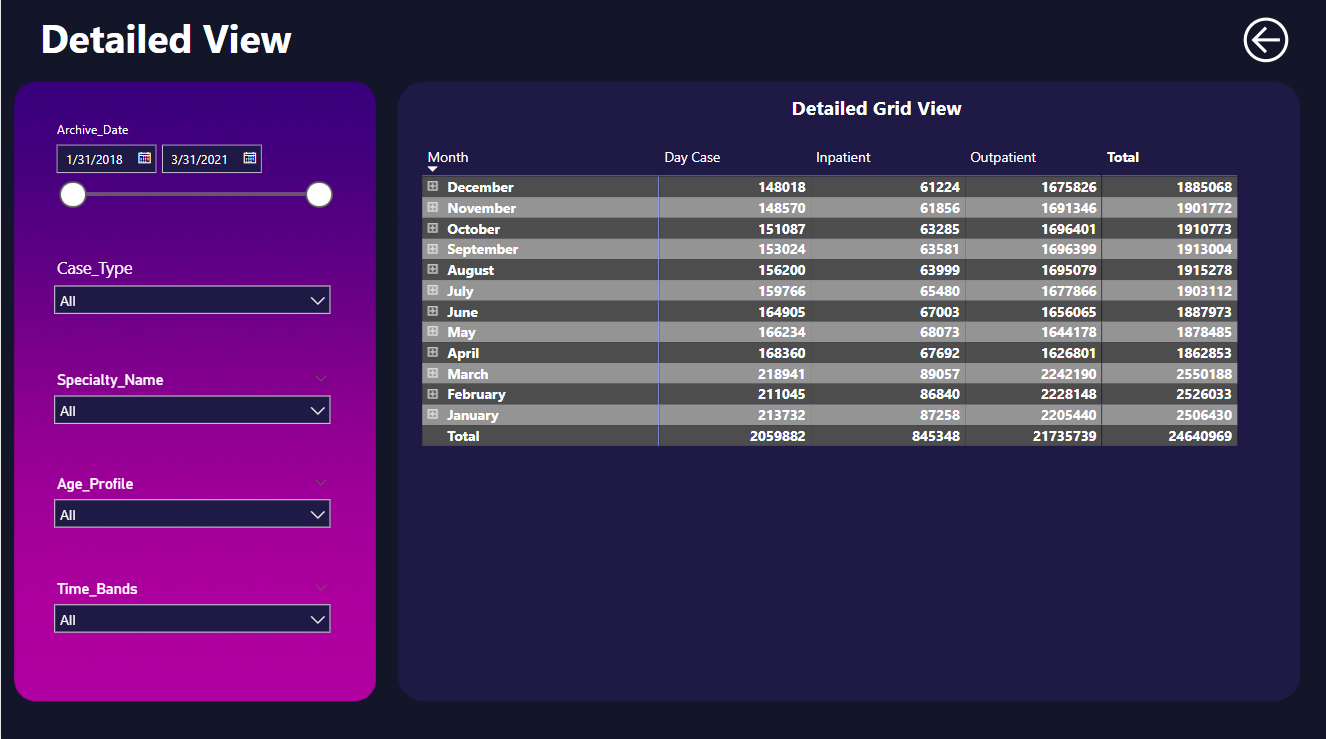

The page's visual inventory and layout, read from the dashboard file:
{"tool":"powerbi","page":{"name":"Detail","canvas":[1280,720],"ordinal":1},"visuals":[{"type":"slicer","fields":{"Values":["All_Data.Archive_Date"]},"box":[41,114.6,287,124.2],"z":0},{"type":"slicer","fields":{"Values":["All_Data.Case_Type"]},"box":[41,244.8,287,100.1],"z":1000},{"type":"slicer","fields":{"Values":["All_Data.Specialty_Name"]},"box":[41,355.8,287,100.1],"z":2000},{"type":"textbox","box":[32.6,9.6,303.9,62.7],"z":3000},{"type":"slicer","fields":{"Values":["All_Data.Age_Profile"]},"box":[41,455.9,287,92.9],"z":4000},{"type":"slicer","fields":{"Values":["All_Data.Time_Bands"]},"box":[41,557.2,287,100.1],"z":5000},{"type":"pivotTable","fields":{"Rows":["All_Data.Archive_Date.Variation.Date Hierarchy.Month","All_Data.Archive_Date.Variation.Date Hierarchy.Day","All_Data.Specialty_Name","All_Data.Age_Profile","All_Data.Time_Bands"],"Columns":["All_Data.Case_Type"],"Values":["Sum(All_Data.Total)"]},"box":[401.6,138.7,846.6,533.1],"z":6000},{"type":"textbox","box":[613.9,89.2,461.9,49.4],"z":7000},{"type":"actionButton","box":[1192.8,9.6,55.5,62.7],"z":8000}]}

Visuals, with their boxes in screenshot pixels (x1, y1, x2, y2), scaled from the page's 1280x720 canvas onto the 1326x739 screenshot:
slicer - All_Data.Archive_Date: box=[42, 118, 340, 245]
slicer - All_Data.Case_Type: box=[42, 251, 340, 354]
slicer - All_Data.Specialty_Name: box=[42, 365, 340, 468]
textbox: box=[34, 10, 349, 74]
slicer - All_Data.Age_Profile: box=[42, 468, 340, 563]
slicer - All_Data.Time_Bands: box=[42, 572, 340, 675]
pivotTable - All_Data.Archive_Date.Variation.Date Hierarchy.Month x All_Data.Archive_Date.Variation.Date Hierarchy.Day: box=[416, 142, 1293, 690]
textbox: box=[636, 92, 1114, 142]
actionButton: box=[1236, 10, 1293, 74]
